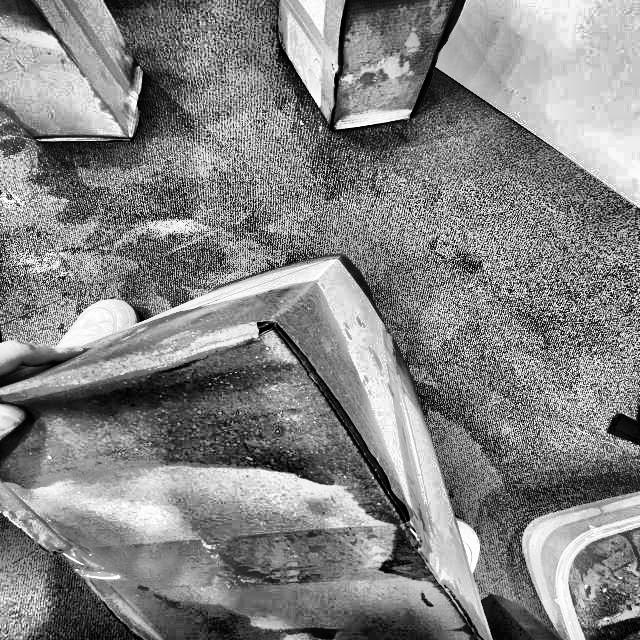box: (0, 239, 501, 639)
wet: (4, 283, 416, 476)
